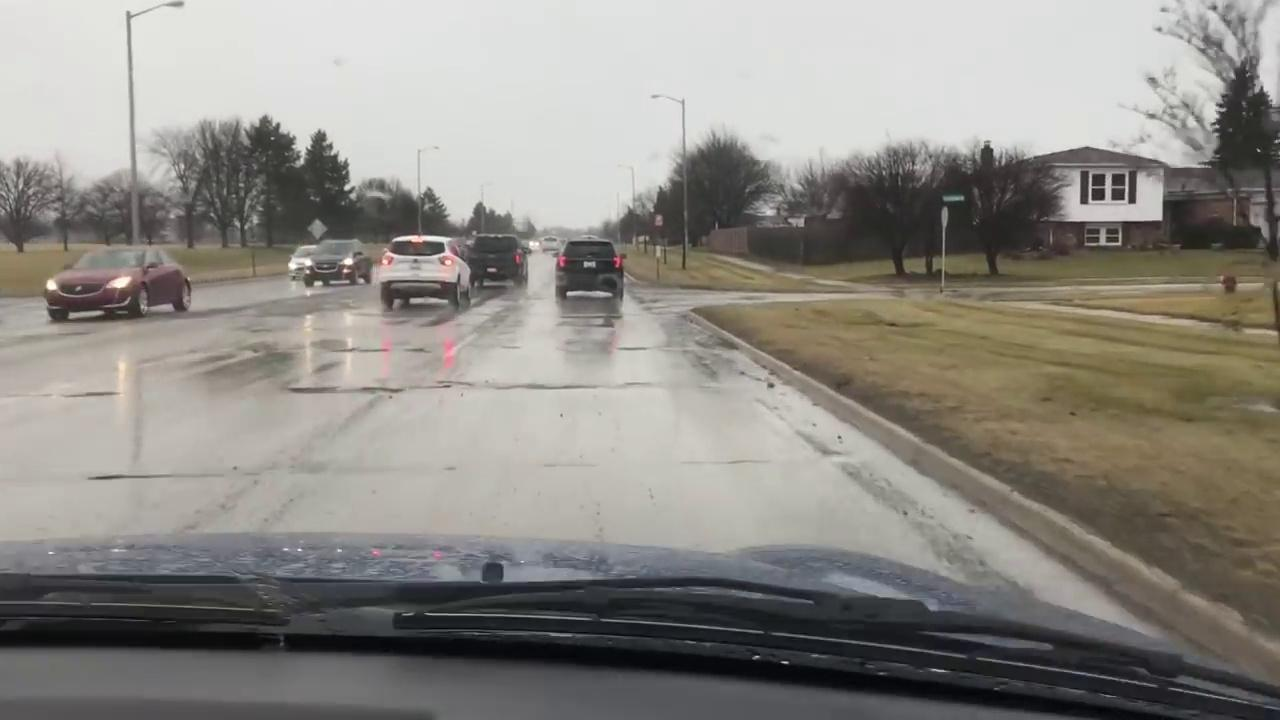pothole: (446, 378, 608, 395), (281, 385, 408, 396)
